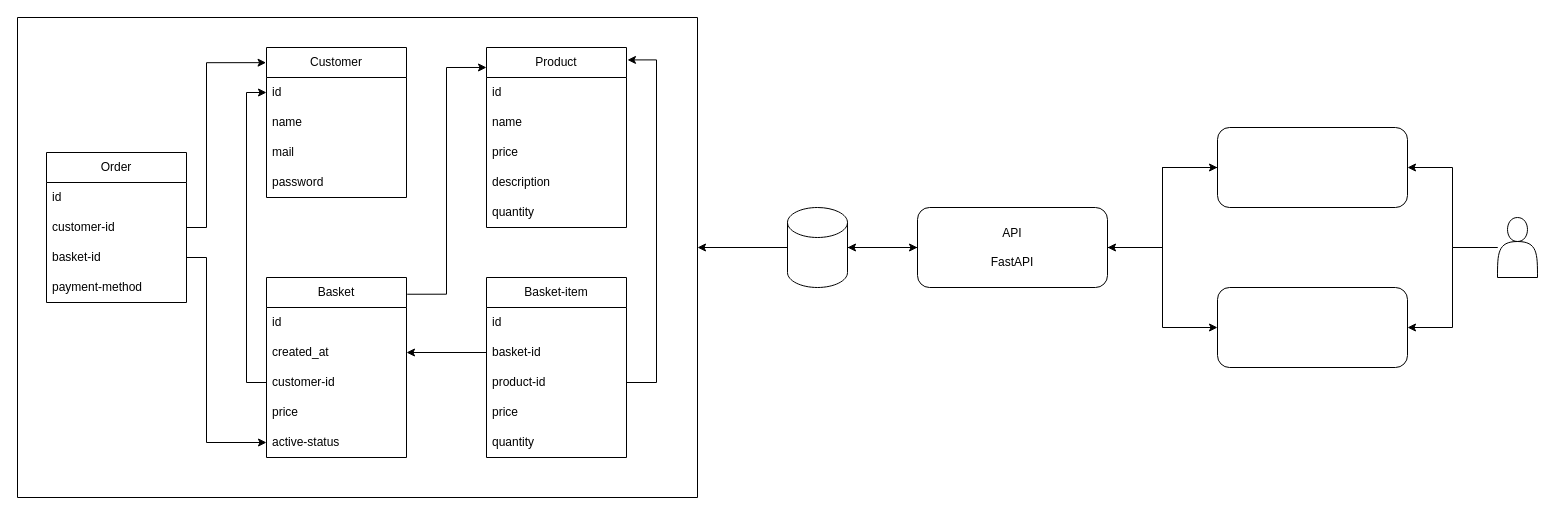
Some shapes in this 1555 by 516 pixel diagram are drawn without their labels. The shapes that lost their labels are listed below. From the top down, each one's centre as x and y in pixels, then its label:
At point 1312,167: "Mobile App Flet".
At point 817,247: "DB".
At point 1312,327: "Web Store FastAPI (Jinja2)".
